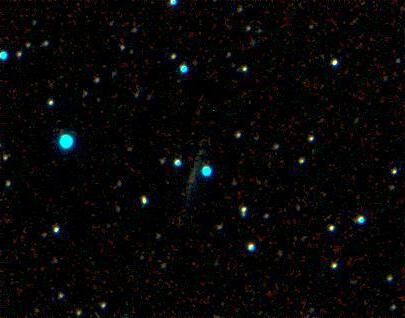star: (23, 289, 53, 318)
